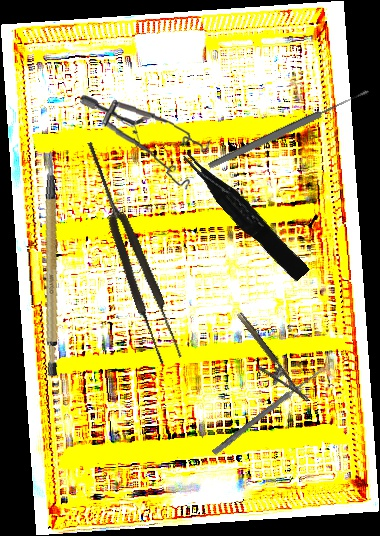Needle Holder: (224, 310, 310, 414)
Scalpel Handle: (17, 148, 91, 378)
Speculum: (75, 93, 214, 192)
Surgical Spoon: (207, 87, 371, 171), (211, 364, 327, 457)
Tissue Forceps: (77, 137, 185, 366), (179, 142, 311, 287)
